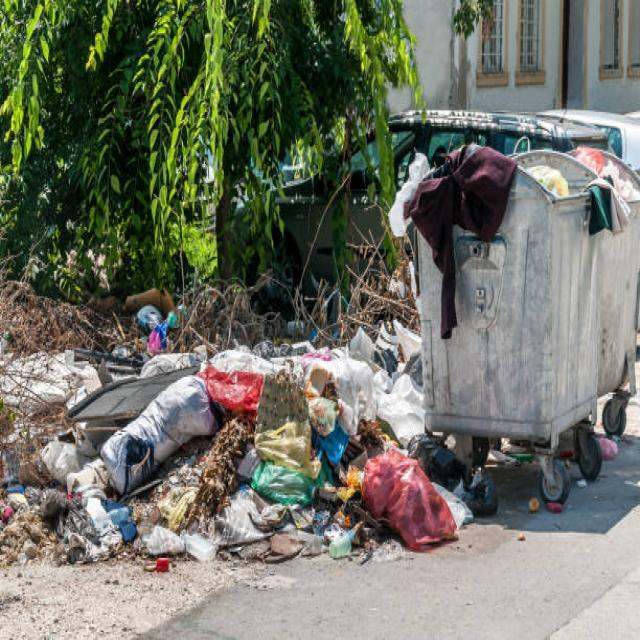garbage: (394, 130, 516, 338), (89, 369, 215, 473), (362, 450, 458, 560), (308, 345, 388, 448), (576, 145, 640, 241), (243, 448, 324, 516), (211, 346, 276, 426), (522, 159, 569, 211)
